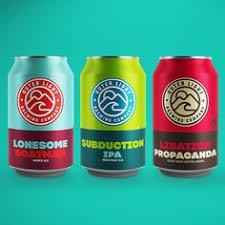beer: (8, 56, 218, 176)
